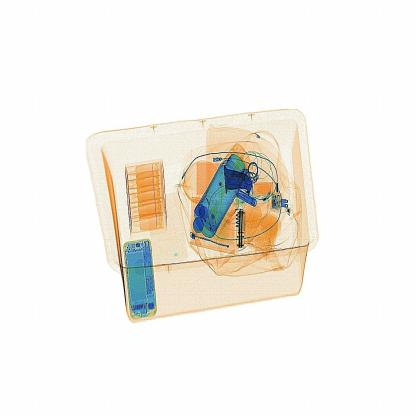scissors: (227, 202, 251, 259)
